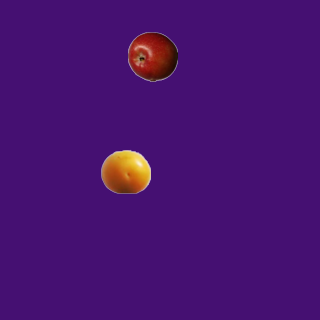Apple Braeburn: (127, 31, 177, 81)
Cherry Wax Yellow: (100, 146, 150, 196)
